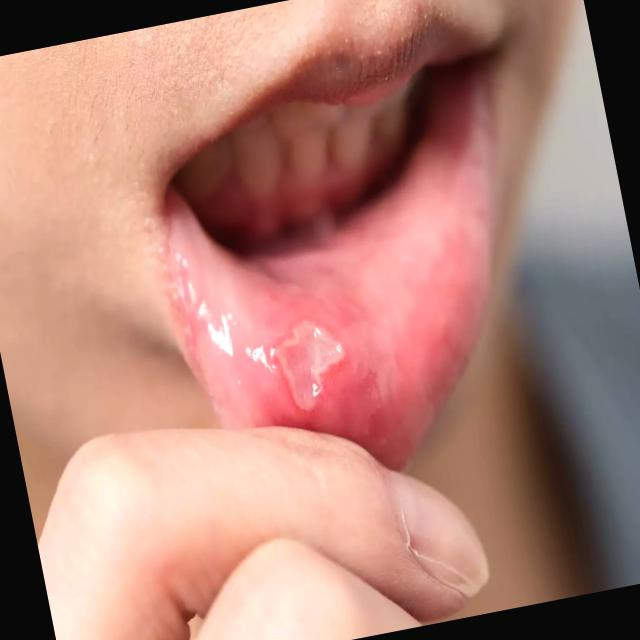Cancer: (250, 295, 380, 430)
